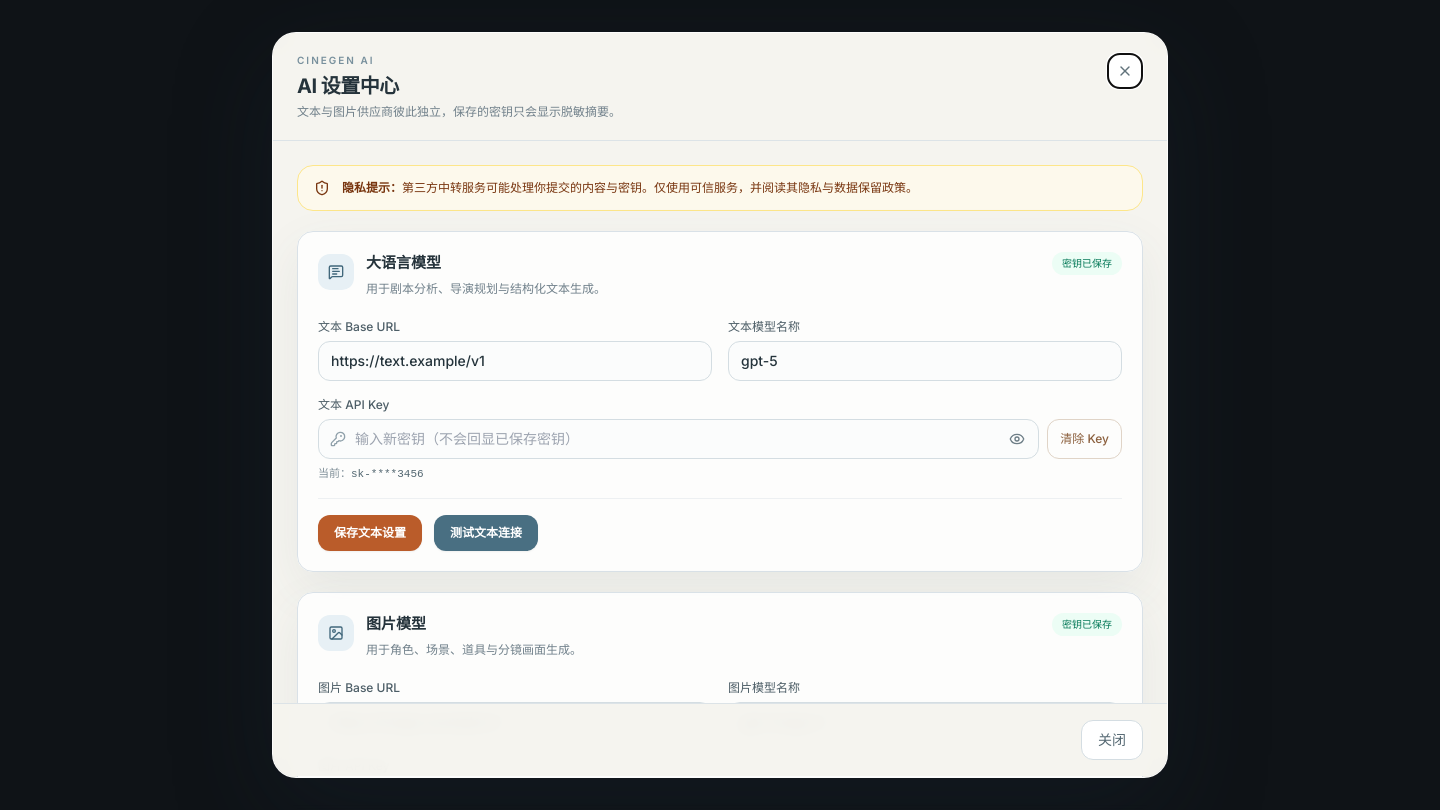
Test: AiSettingsDialog › clears a provider's old message when its next operation starts
This screenshot has width=1440, height=810.
Expected: the field showing "https://text.example/v1" is shown, [318,341,712,381]
Click the button "测试文本连接" at (486, 533), box [434,515,538,551]
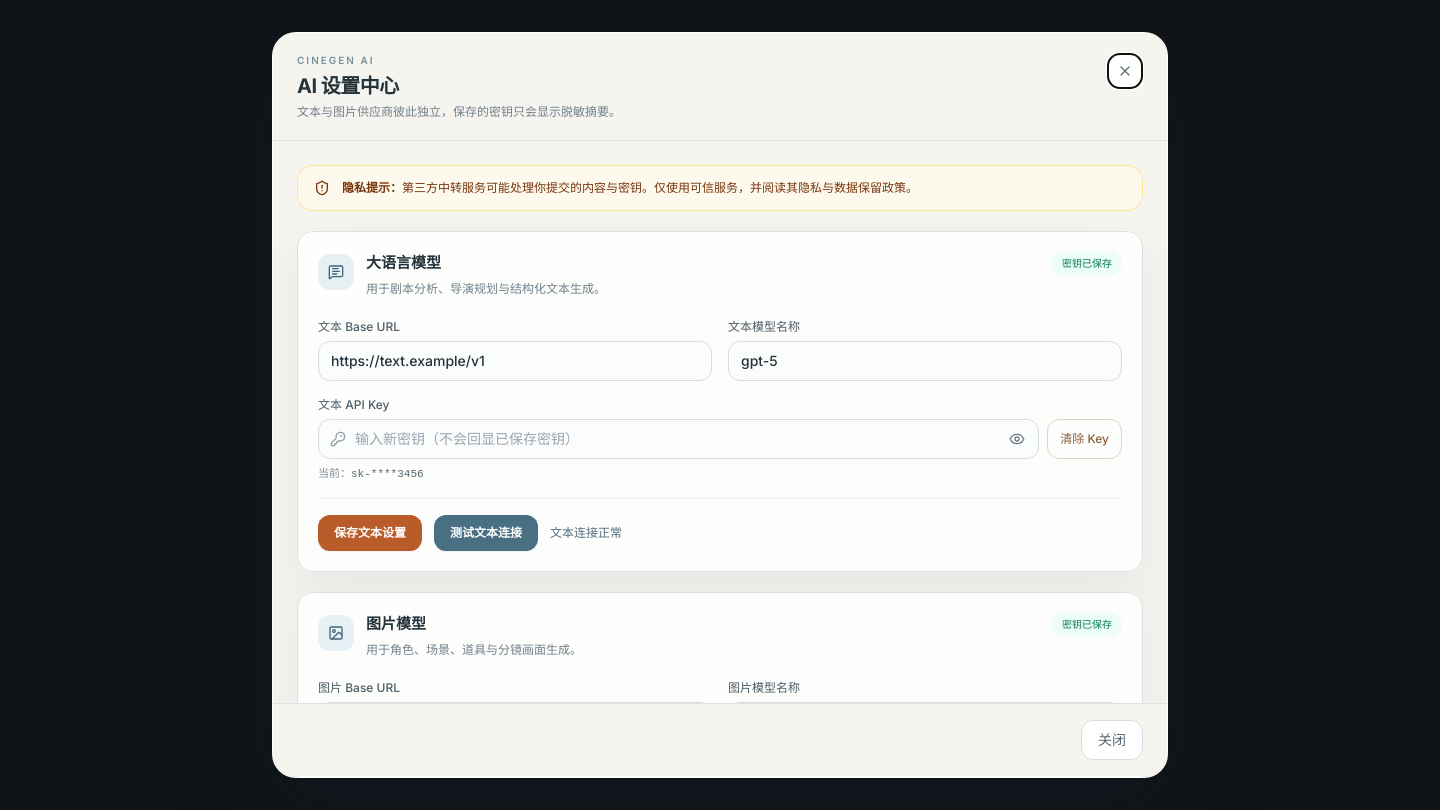
Result: the text "文本连接正常" is shown at [550,525,622,541]
Click the button "测试文本连接" at (486, 533), box [434,515,538,551]
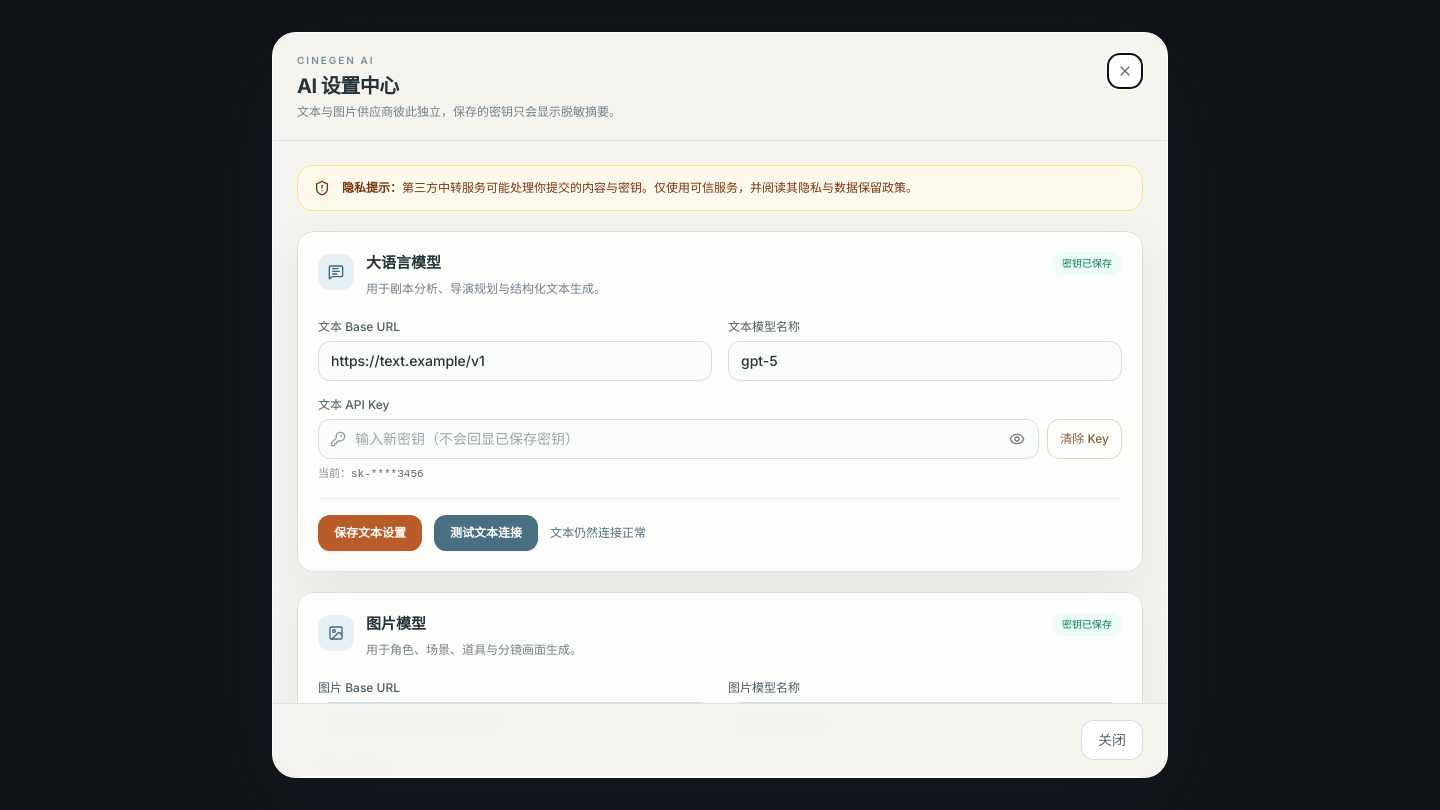
Result: the text "文本连接正常" is gone
Result: the text "文本仍然连接正常" is shown at [550,525,646,541]
